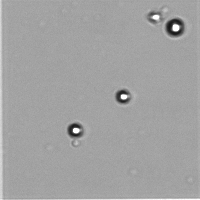Living Cell: (161, 13, 189, 43), (112, 84, 134, 108), (64, 120, 87, 141), (146, 10, 162, 23)
